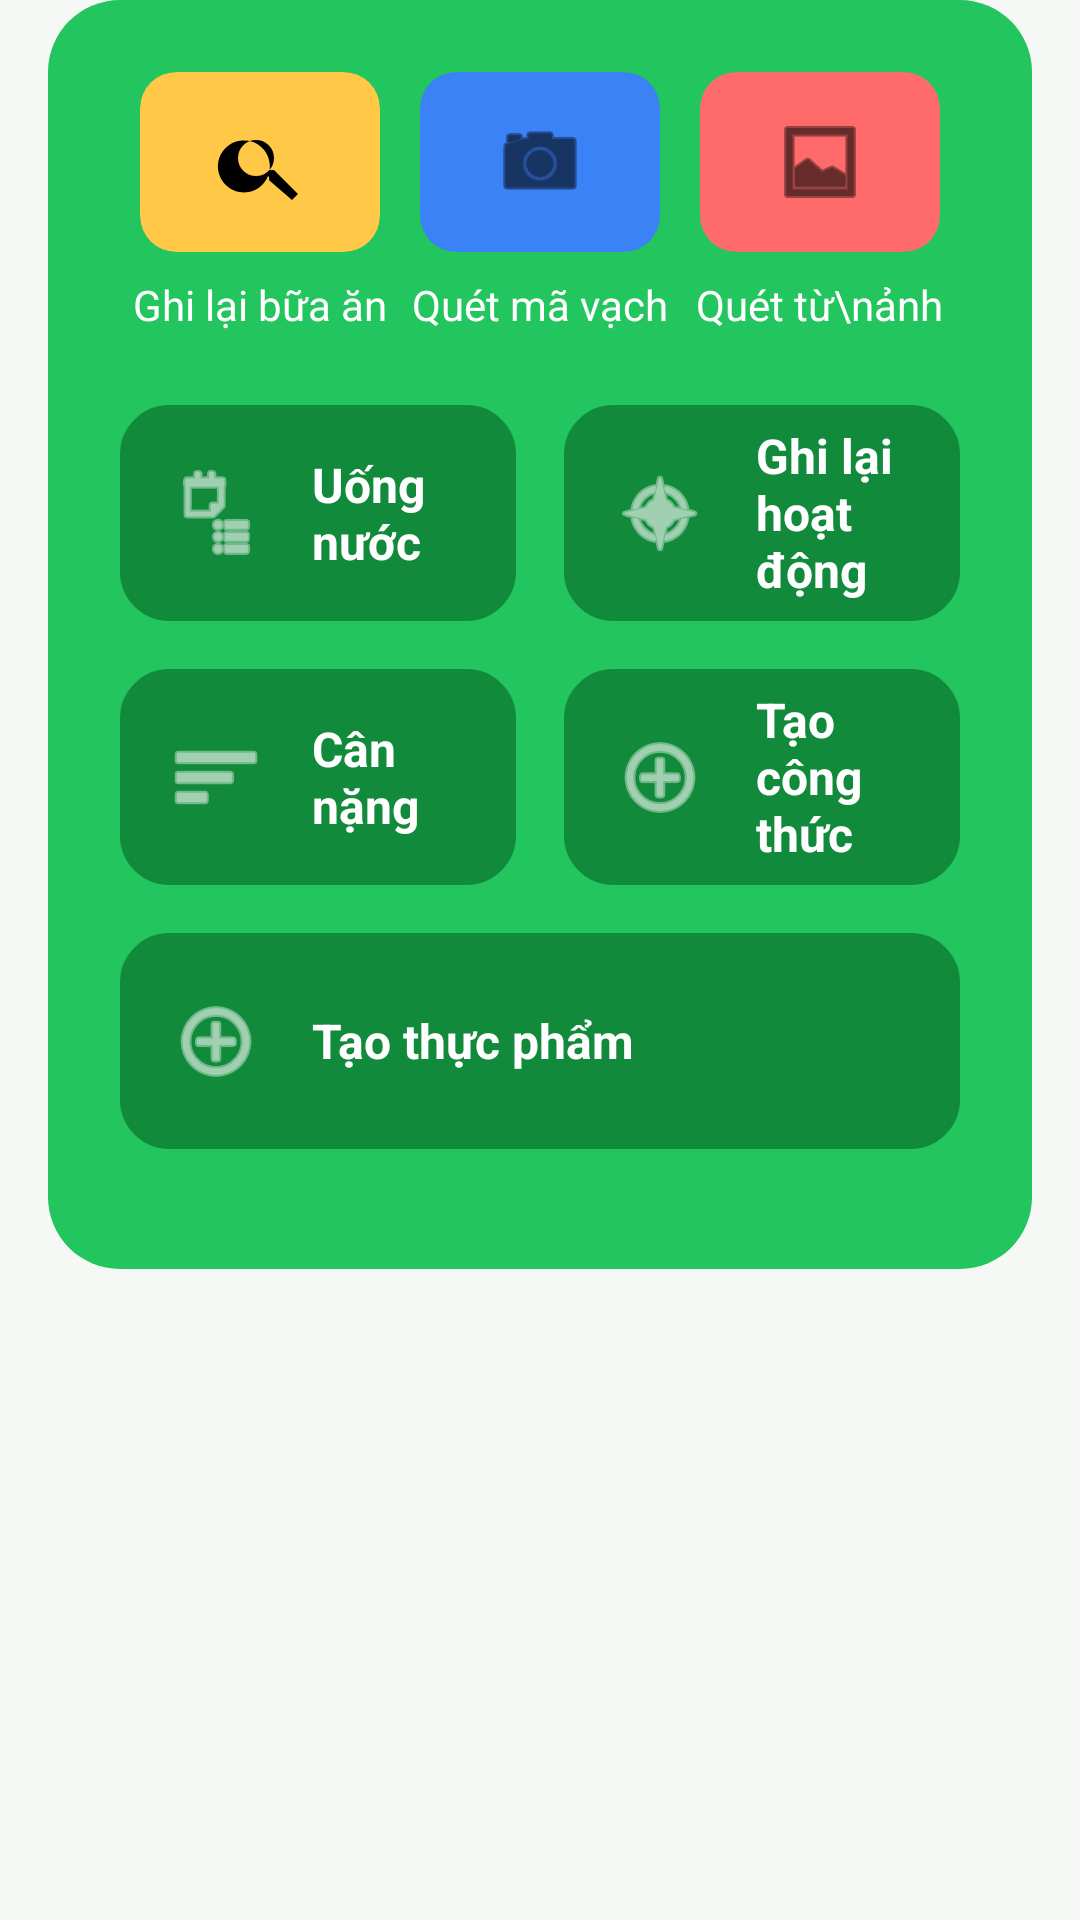

Where to tap for icons on this 1080px×1920px app screen, as point (x, y):
add: point (660, 777), point (216, 1041)
agenda: point (216, 512)
camera: point (540, 160)
compass: point (660, 513)
gallery: point (820, 162)
search: point (257, 170)
sort by size: point (216, 777)
